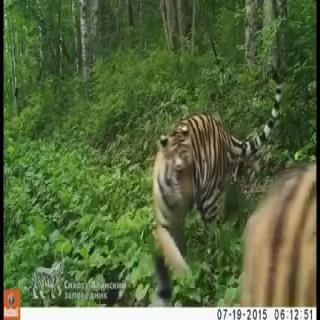Tiger: (146, 63, 278, 290)
